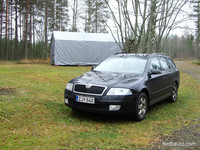car: (64, 52, 179, 121)
